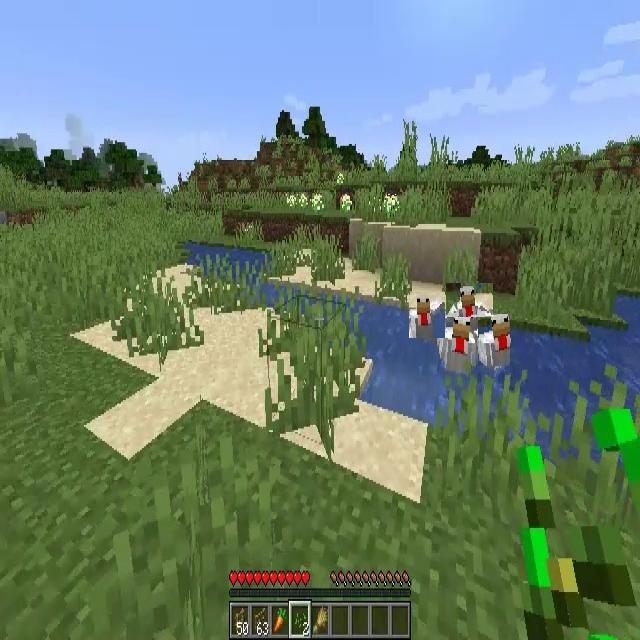duck: (441, 314, 474, 374), (478, 314, 510, 366), (409, 292, 445, 338), (446, 283, 493, 317)
flower: (384, 196, 398, 213), (312, 193, 322, 215), (340, 196, 352, 214), (298, 193, 306, 208), (286, 196, 296, 208), (336, 173, 344, 183)
